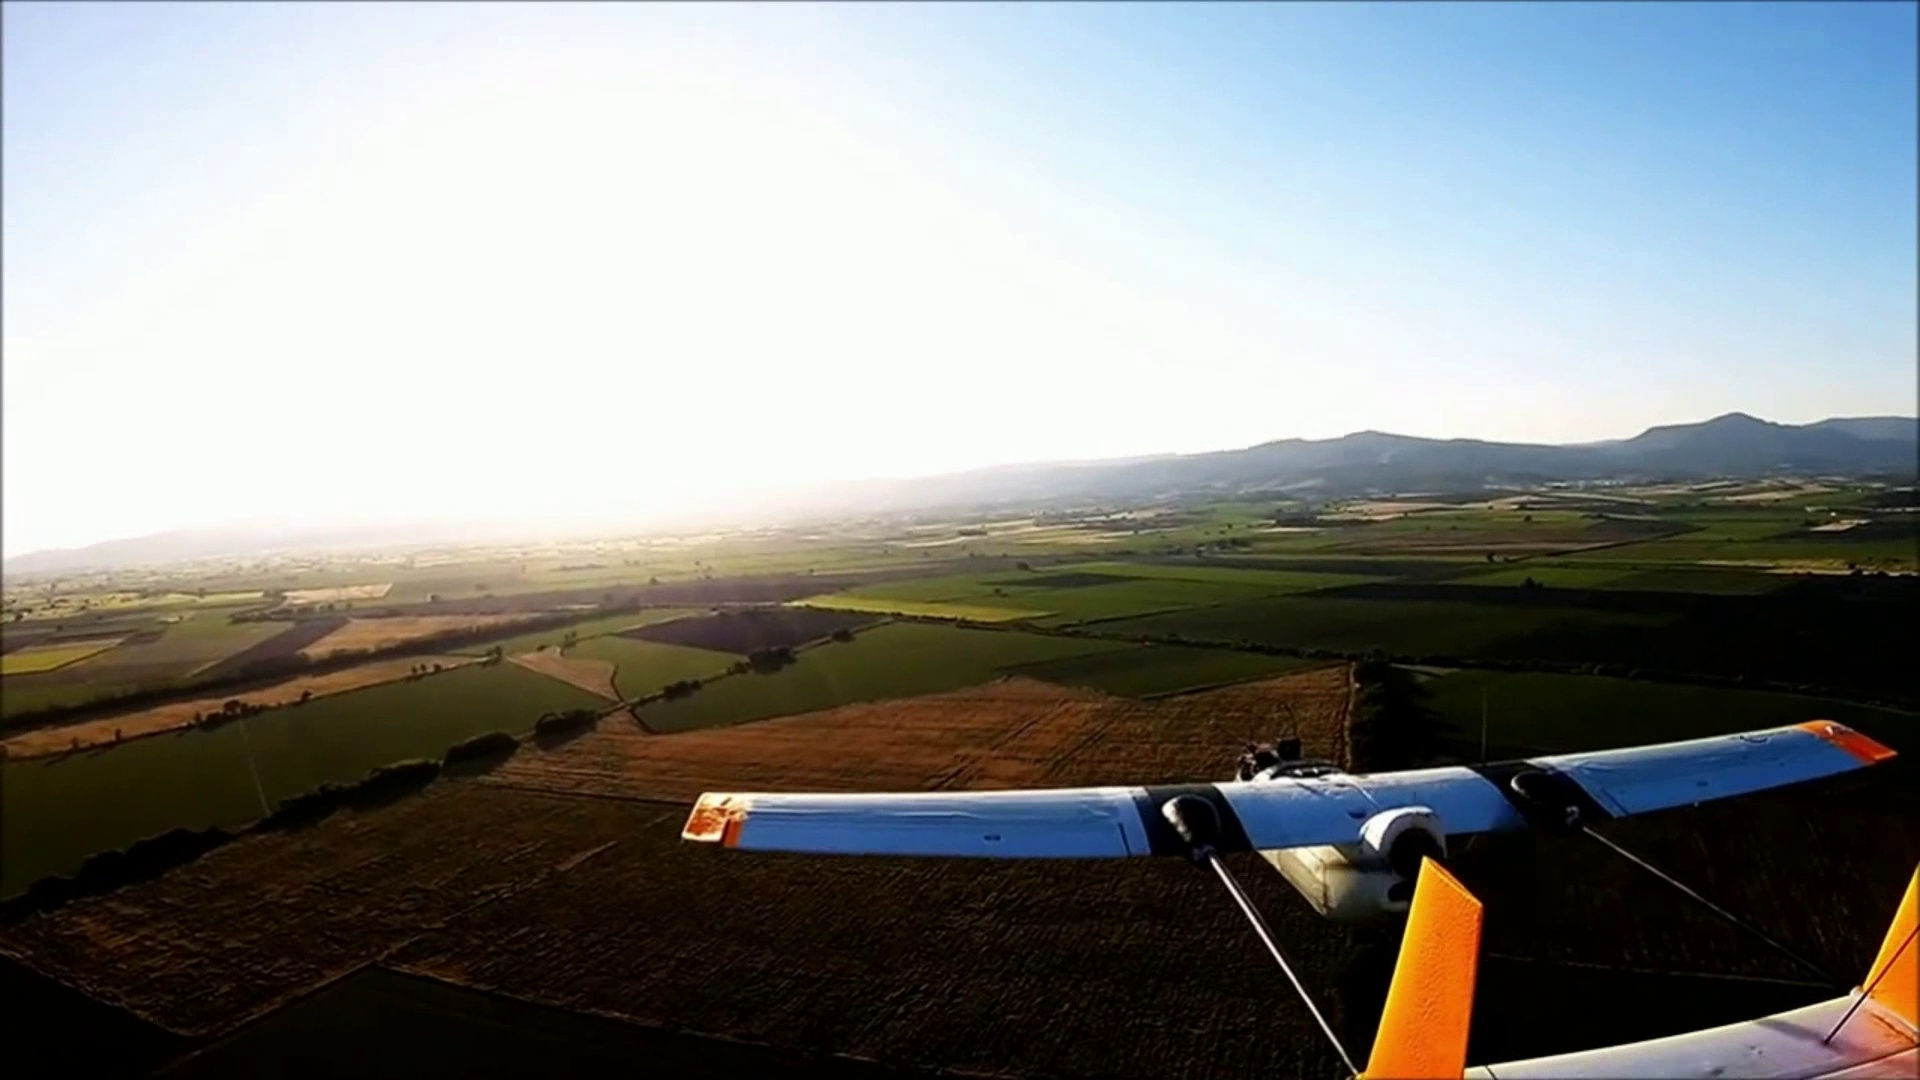airplane: (673, 717, 1915, 1069)
